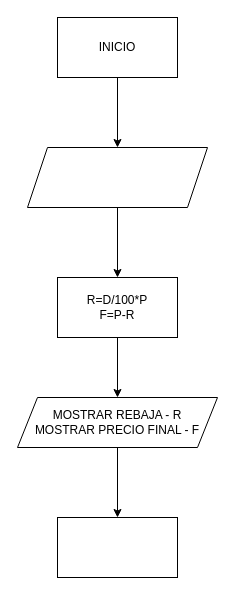
This 235x595 diagram has some shape labels left out. The centre of each missing label's shape, as x and y in pixels:
FIN: pixel 117 547
RECIBIR PRECIO - P RECIBIR DESCUETNO -D: pixel 117 177
